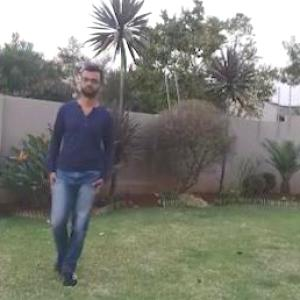follow: (36, 51, 119, 294)
